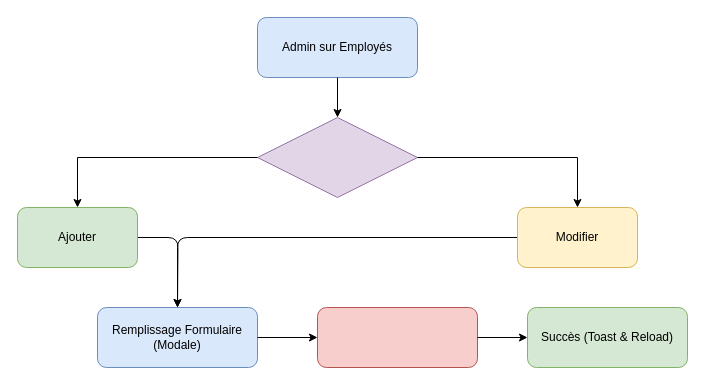
This 705x385 diagram has some shape labels left out. Each missing label, with the centre of its shape:
"Choix Action" goes at point 337,157.
"Soumission API" goes at point 397,337.
